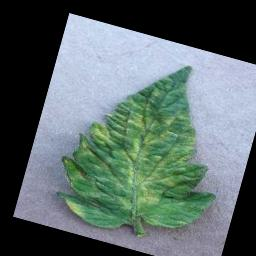Leaf_Mold: (92, 82, 209, 224), (86, 121, 113, 146), (61, 198, 88, 218)
